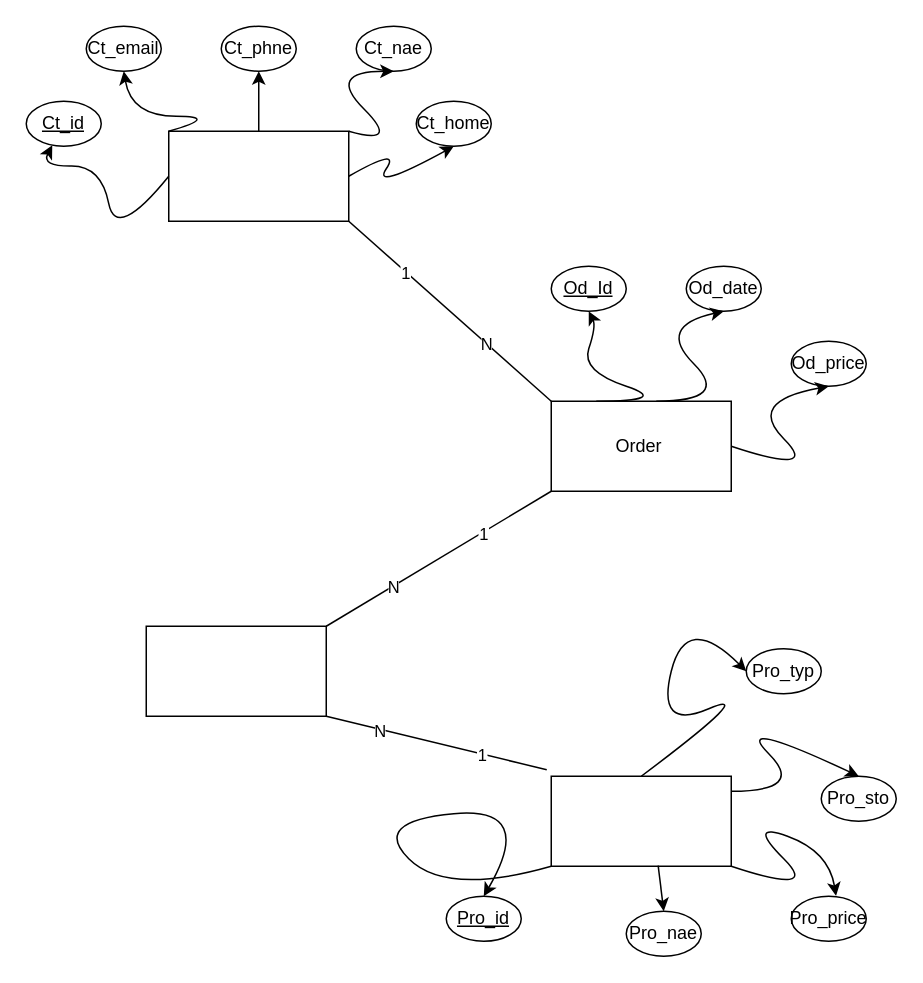
This 923x983 diagram has some shape labels left out. Each missing label, with the centre of its shape:
"Customers" belongs at point 258,175.
"Order_Detail" belongs at point 235,670.
"Products" belongs at point 640,820.
